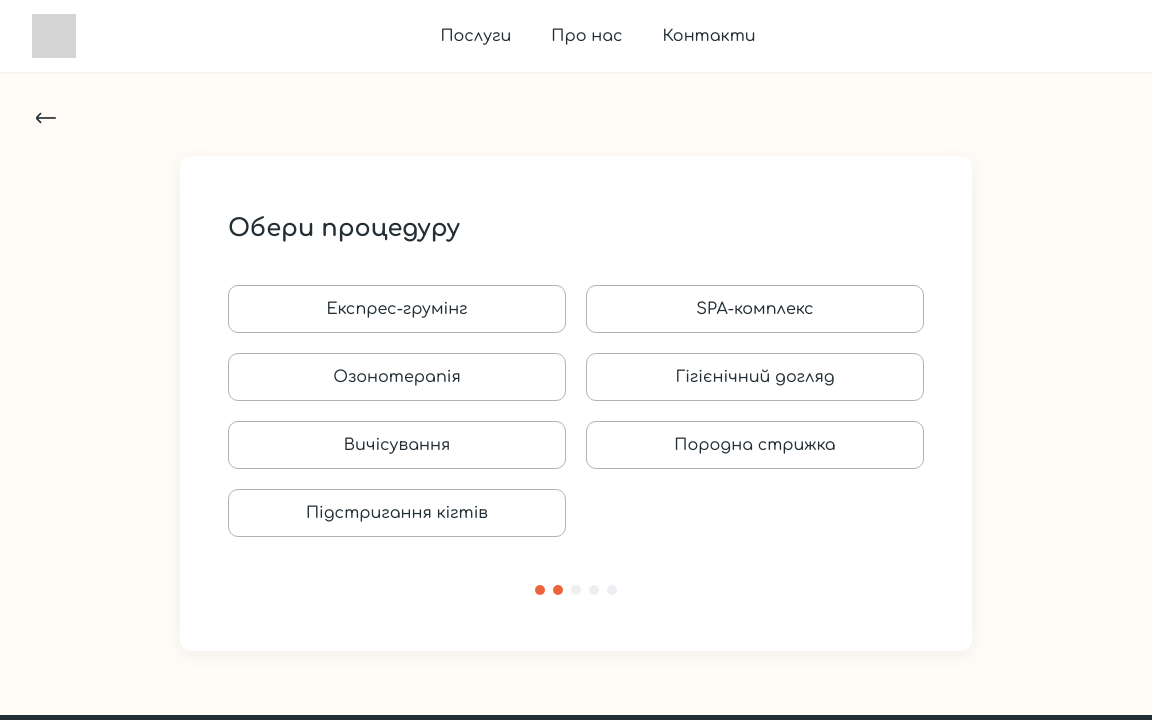
BookingPage › renders stage 2 procedure selection with catalog items and selects procedure
Expected: the heading "Обери процедуру" is shown, [228,215,460,242]
Expected: the radio button labelled "Експрес-грумінг" is shown, [228,285,566,333]
What coordinates should you click on to do the following:
click the radio button labelled "SPA-комплекс"
I would click on:
 (755, 309)
Its box is [586,285,924,333].
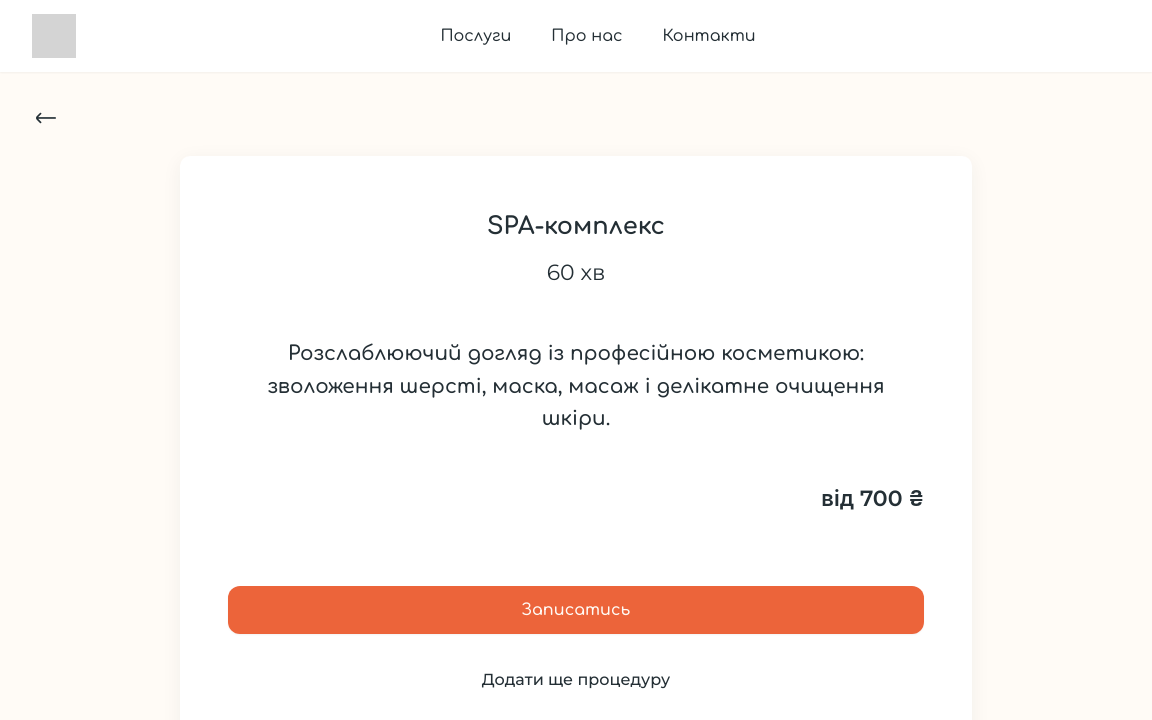
What coordinates should you click on to do the following:
click the button "Записатись"
I would click on:
 (576, 610)
Its box is [228,586,924,634].
(page scrolled)
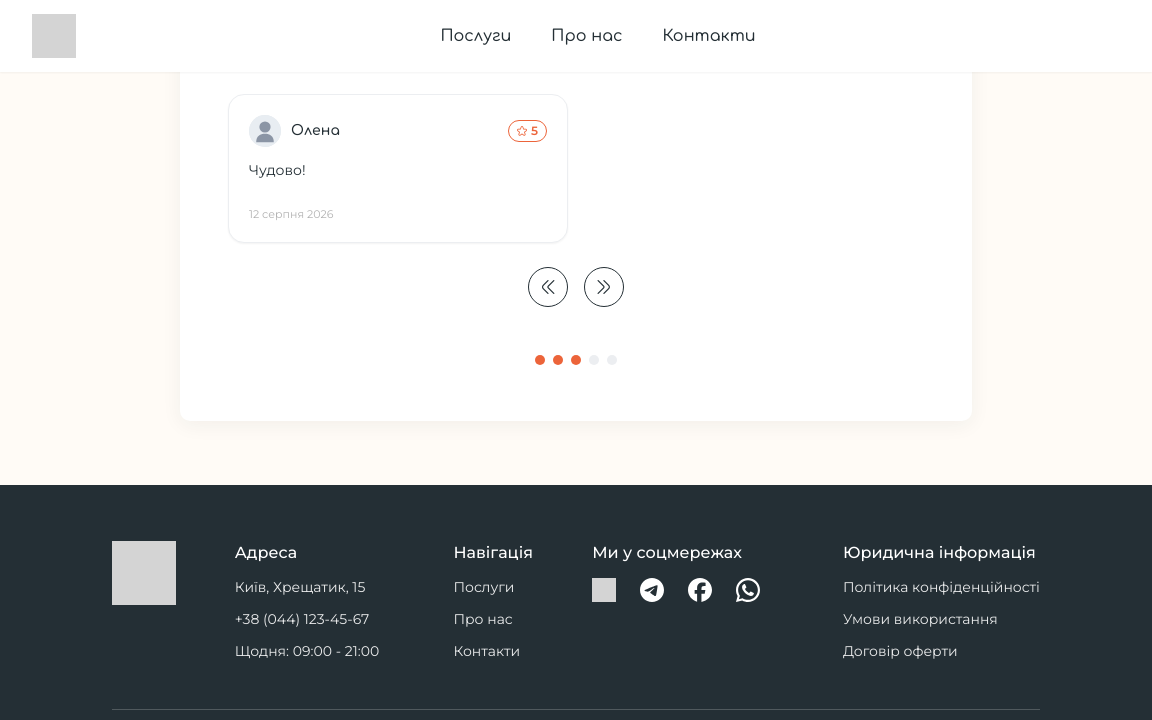
Result: the progress indicator named "Крок 3 з 5" is shown at [535,355,617,365]
